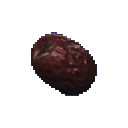gd: (20, 23, 114, 108)
